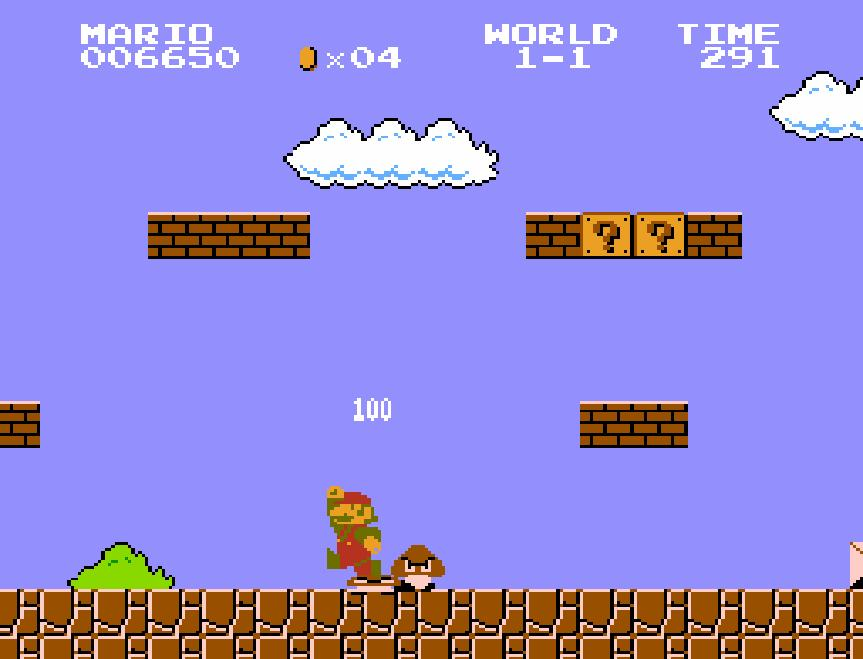big_mario: (324, 484, 382, 582)
